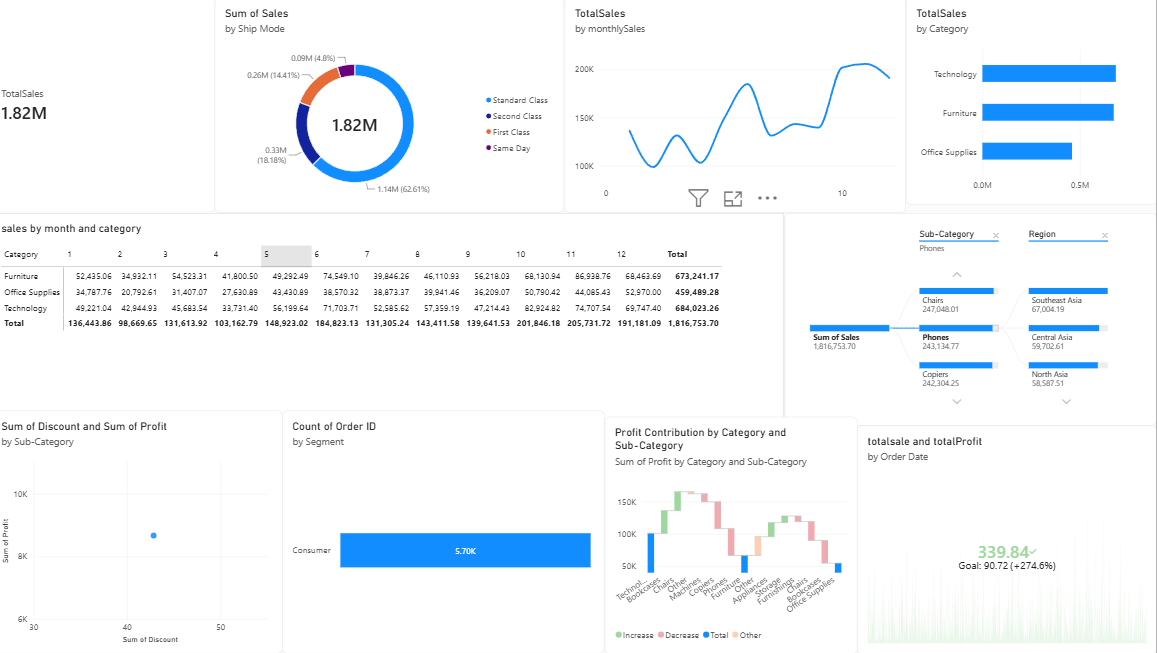

What the dashboard file says about the page in this screenshot:
{"tool":"powerbi","page":{"name":"Page 1","canvas":[1920,1080],"ordinal":0},"visuals":[{"type":"cardVisual","fields":{"Data":["RetailVista_Sales_Dataset.TotalSales"]},"box":[0,0,368.3,353.3],"z":0},{"type":"donutChart","fields":{"Category":["RetailVista_Sales_Dataset.Ship Mode"],"Y":["Sum(RetailVista_Sales_Dataset.Sales)"]},"box":[368.3,0,575,353.3],"z":1000},{"type":"lineChart","fields":{"Category":["RetailVista_Sales_Dataset.monthlySales"],"Y":["RetailVista_Sales_Dataset.TotalSales"]},"box":[944,0,561.7,353.3],"z":2000},{"type":"clusteredBarChart","fields":{"Category":["RetailVista_Sales_Dataset.Category"],"Y":["RetailVista_Sales_Dataset.TotalSales"]},"box":[1506,0,416,340],"z":3000},{"type":"pivotTable","title":"sales by month and category","fields":{"Columns":["RetailVista_Sales_Dataset.monthlySales"],"Rows":["RetailVista_Sales_Dataset.Category"],"Values":["RetailVista_Sales_Dataset.TotalSales"]},"box":[0,354,1306,346],"z":3001},{"type":"decompositionTreeVisual","fields":{"Analyze":["Sum(RetailVista_Sales_Dataset.Sales)"],"ExplainBy":["RetailVista_Sales_Dataset.Sub-Category","RetailVista_Sales_Dataset.Region"]},"box":[1306.7,353.3,613.3,350],"z":3004},{"type":"scatterChart","fields":{"Category":["RetailVista_Sales_Dataset.Sub-Category"],"X":["Sum(RetailVista_Sales_Dataset.Discount)"],"Y":["Sum(RetailVista_Sales_Dataset.Profit)"]},"box":[0,680,480,400],"z":3005},{"type":"funnel","fields":{"Category":["RetailVista_Sales_Dataset.Segment"],"Y":["CountNonNull(RetailVista_Sales_Dataset.Order ID)"]},"box":[480,680,530,400],"z":3006},{"type":"waterfallChart","title":"Profit Contribution by Category and Sub-Category","fields":{"Breakdown":["RetailVista_Sales_Dataset.Sub-Category"],"Category":["RetailVista_Sales_Dataset.Category"],"Y":["Sum(RetailVista_Sales_Dataset.Profit)"]},"box":[1010,690,416,390],"z":3007},{"type":"kpi","fields":{"Goal":["RetailVista_Sales_Dataset.totalProfit"],"Indicator":["RetailVista_Sales_Dataset.totalsale"],"TrendLine":["RetailVista_Sales_Dataset.Order Date"]},"box":[1426,704,494,376],"z":3008}]}

Visuals, with their boxes in screenshot pixels (x1, y1, x2, y2), scaled from the page's 1920x1080 canvas onto the 1157x653 screenshot:
cardVisual - RetailVista_Sales_Dataset.TotalSales: BBox(0, 0, 222, 214)
donutChart - RetailVista_Sales_Dataset.Ship Mode x Sum(RetailVista_Sales_Dataset.Sales): BBox(222, 0, 568, 214)
lineChart - RetailVista_Sales_Dataset.monthlySales x RetailVista_Sales_Dataset.TotalSales: BBox(569, 0, 907, 214)
clusteredBarChart - RetailVista_Sales_Dataset.Category x RetailVista_Sales_Dataset.TotalSales: BBox(908, 0, 1156, 206)
"sales by month and category" pivotTable: BBox(0, 214, 787, 423)
decompositionTreeVisual - Sum(RetailVista_Sales_Dataset.Sales) x RetailVista_Sales_Dataset.Sub-Category: BBox(787, 214, 1156, 425)
scatterChart - RetailVista_Sales_Dataset.Sub-Category x Sum(RetailVista_Sales_Dataset.Discount): BBox(0, 411, 289, 652)
funnel - RetailVista_Sales_Dataset.Segment x CountNonNull(RetailVista_Sales_Dataset.Order ID): BBox(289, 411, 609, 652)
"Profit Contribution by Category and Sub-Category" waterfallChart: BBox(609, 417, 859, 652)
kpi - RetailVista_Sales_Dataset.totalProfit x RetailVista_Sales_Dataset.totalsale: BBox(859, 426, 1156, 652)
